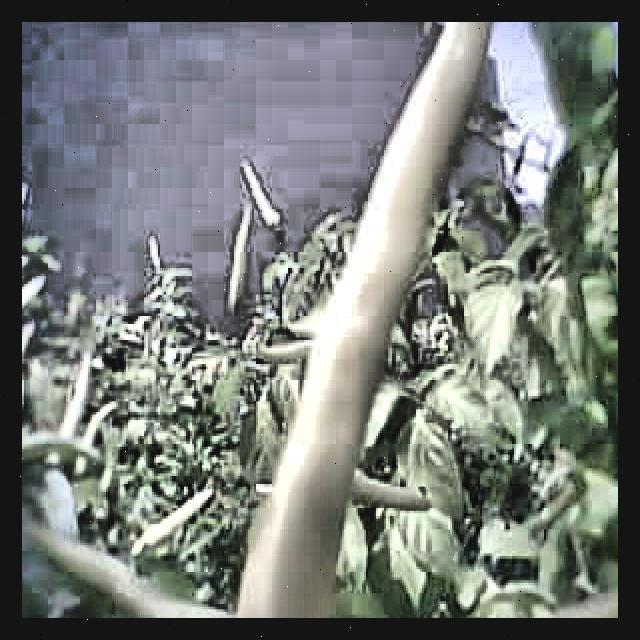Cabai: (232, 22, 483, 618), (210, 151, 292, 246), (53, 353, 94, 438)
